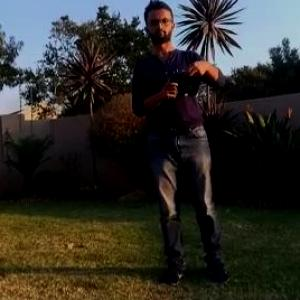follow: (126, 0, 238, 292)
